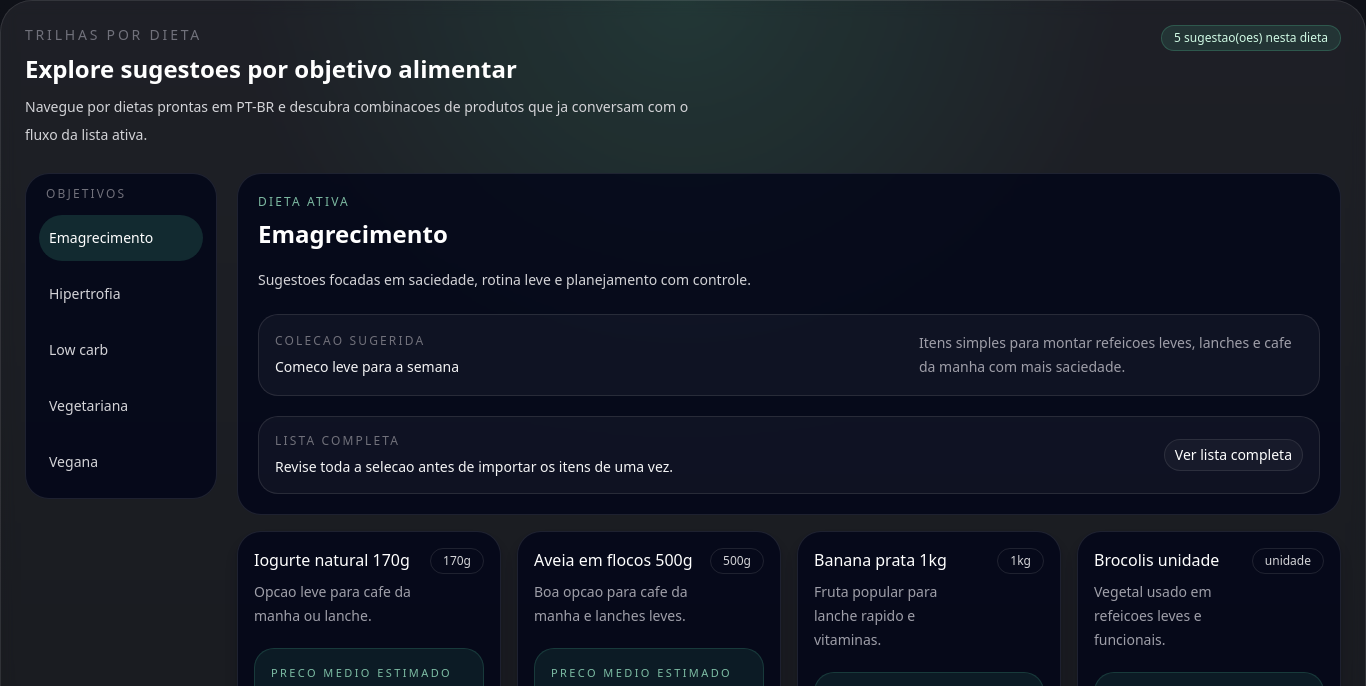
Scenario: diet browser › shows a PT-BR preview before bulk adding the full diet list
This screenshot has width=1366, height=686.
Click the button "Ver lista completa" at (1233,455), box [1164,439,1303,471]
(page scrolled)
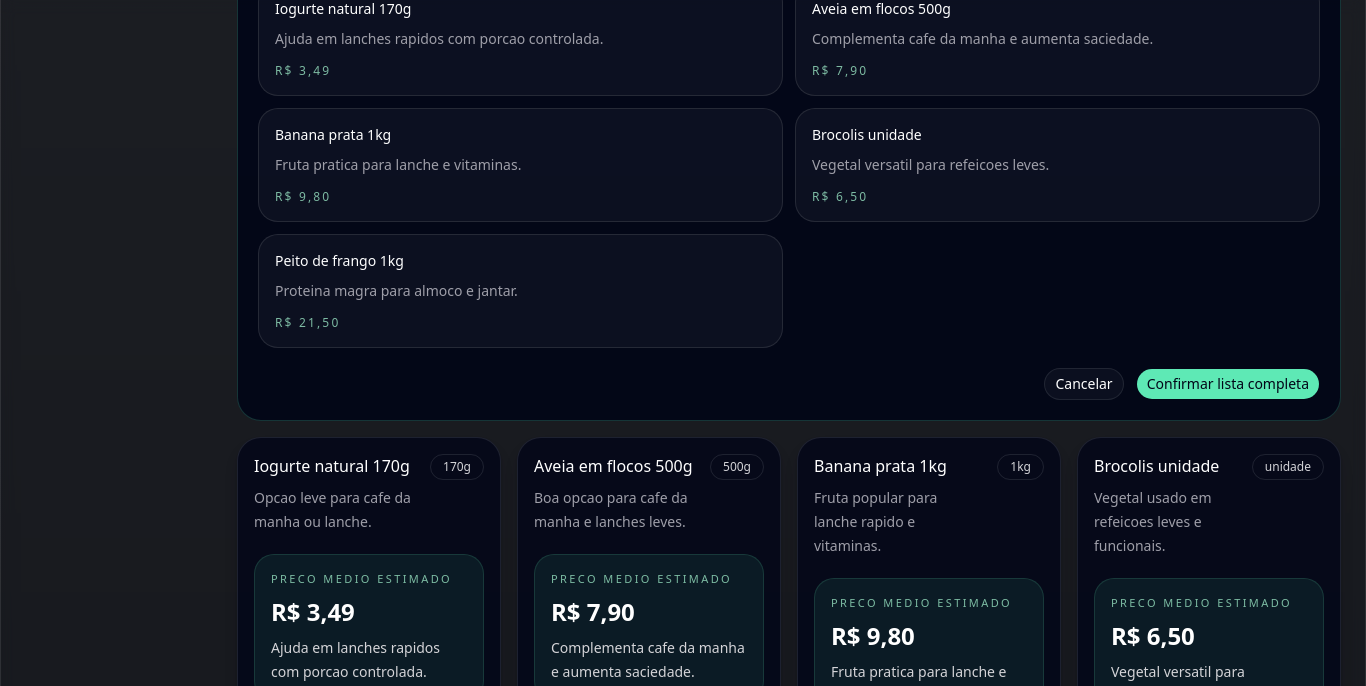
Result: the text "Iogurte natural 170g" below "Adicionar a colecao Emagrecimento" is shown at [275,0,411,18]
Result: the button "Confirmar lista completa" is shown at [1136,368,1320,400]
